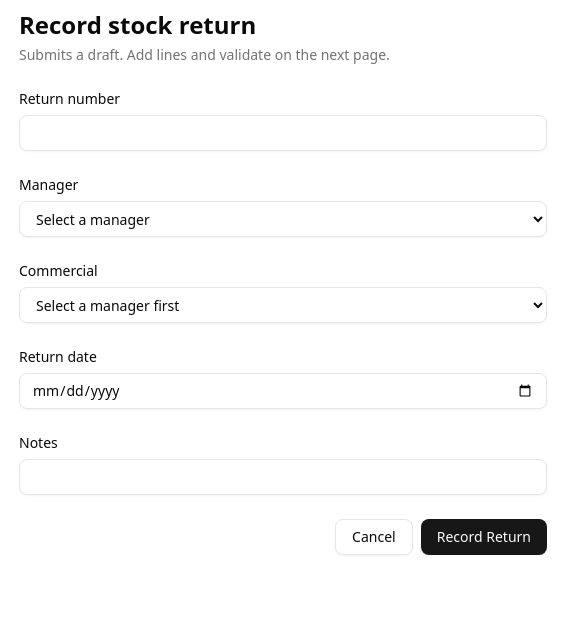
Test: validation › shows a required error for every field on an empty submit
The width and height of the screenshot is (567, 638).
Click the button "Record Return".
click(484, 537)  # box [421,519,547,555]
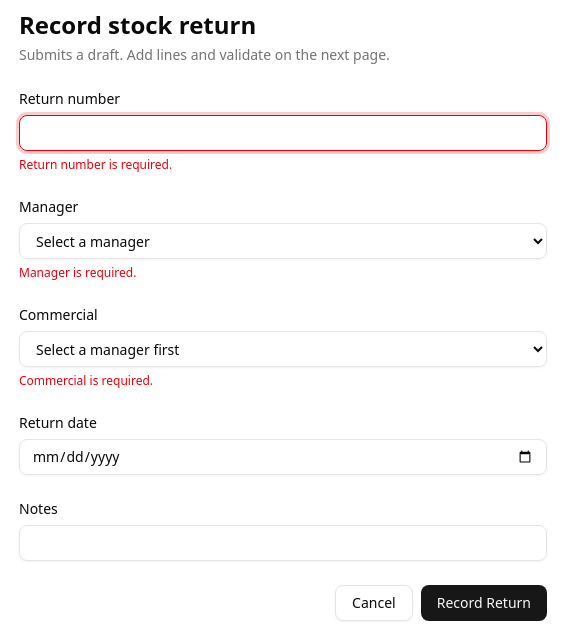
Result: the text "Return number is required." is shown at [19,156,172,173]
Result: the text "Manager is required." is shown at [19,264,136,281]
Result: the text "Commercial is required." is shown at [19,372,153,389]
